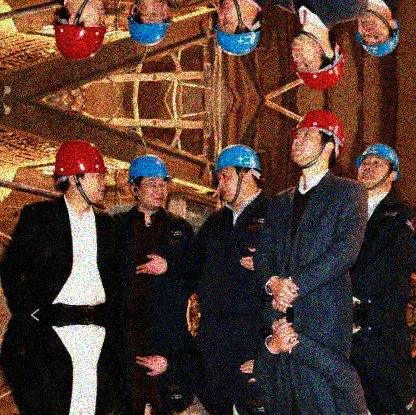helmet: (49, 1, 108, 61), (291, 26, 347, 89), (54, 139, 109, 202), (290, 108, 346, 169), (211, 144, 262, 205), (356, 141, 402, 196), (217, 1, 261, 56), (128, 154, 169, 209), (357, 6, 401, 57), (128, 1, 172, 46)
